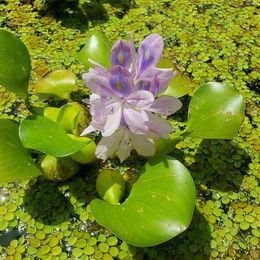water_hyacinth: (0, 18, 250, 243)
